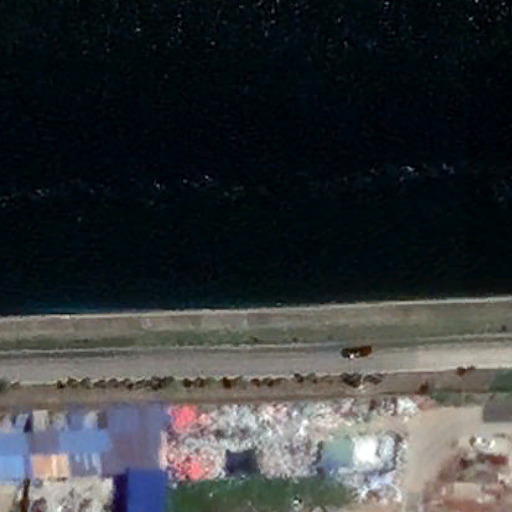msw: (164, 395, 421, 473)
